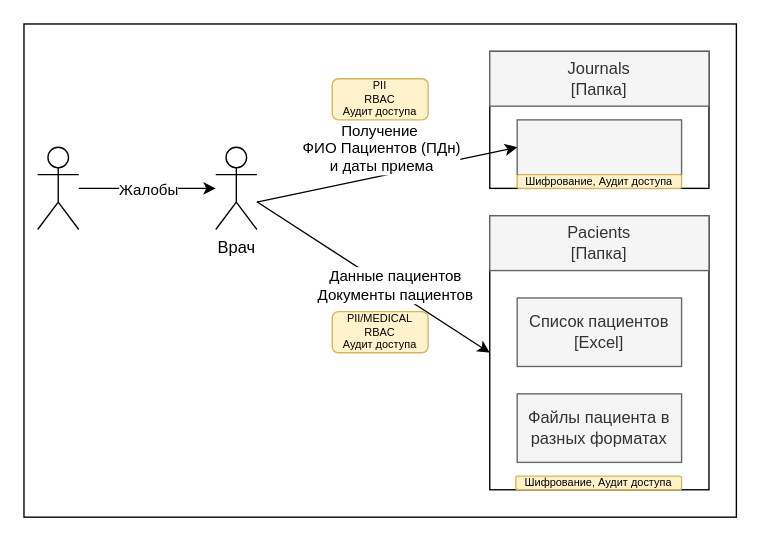
This 760x541 diagram has some shape labels left out. The centre of each missing label's shape, as x and y in pixels:
"Журнал-ФИО Врача [Excel]" belongs at (x=599, y=147).
"Пациент" belongs at (x=57, y=187).
